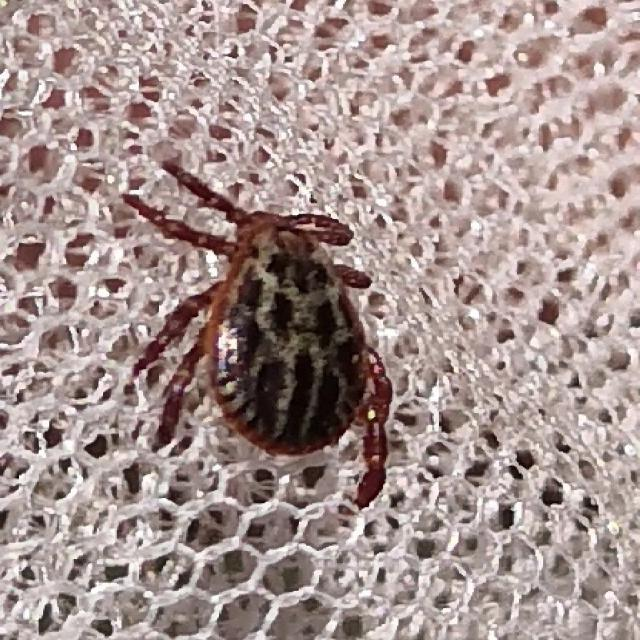Dermacentor Reticulatus-M: (128, 161, 392, 509)
